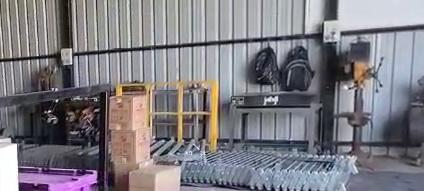box: (19, 167, 96, 190)
